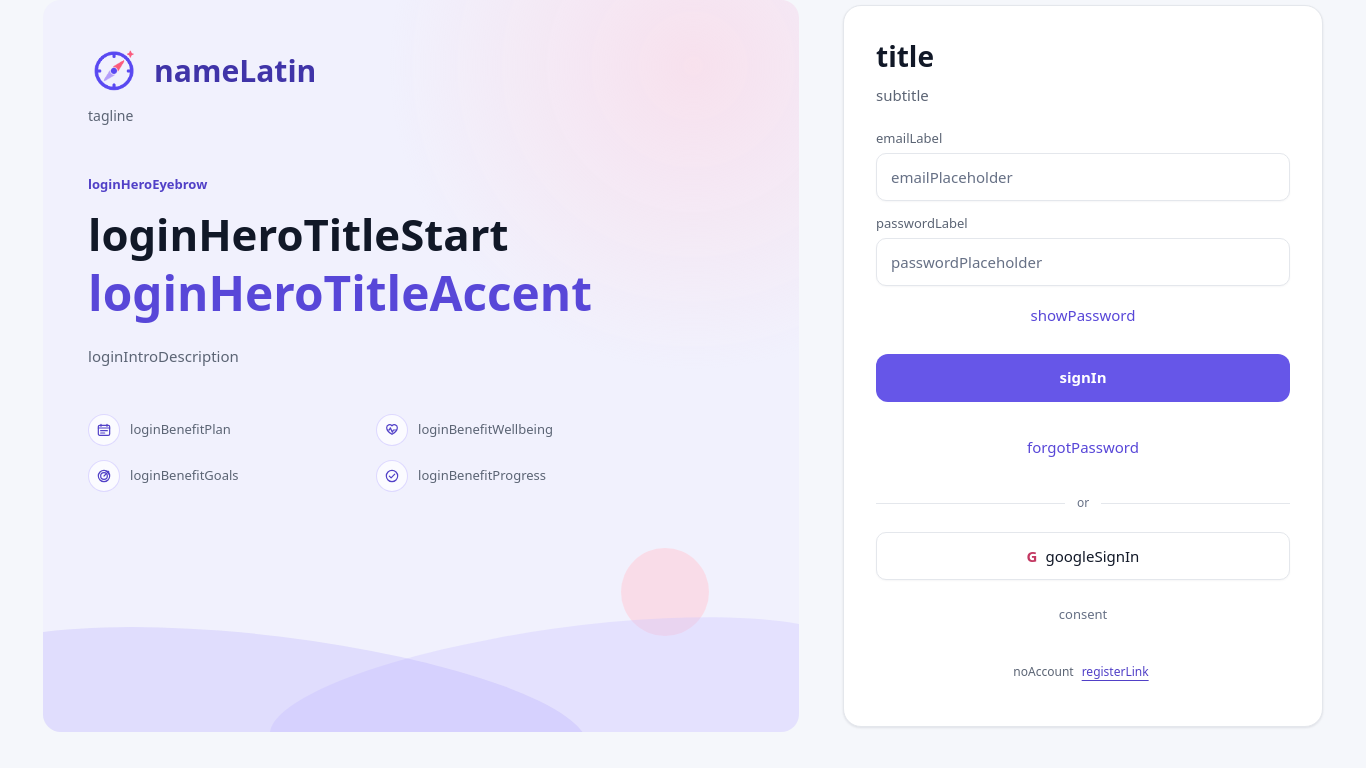
Test: LoginForm › normalizes email before validation and allows existing short passwords
In the field labelled "emailLabel": (1083, 177) [876,153,1290,201], type "  MAY@EXAMPLE.COM  "
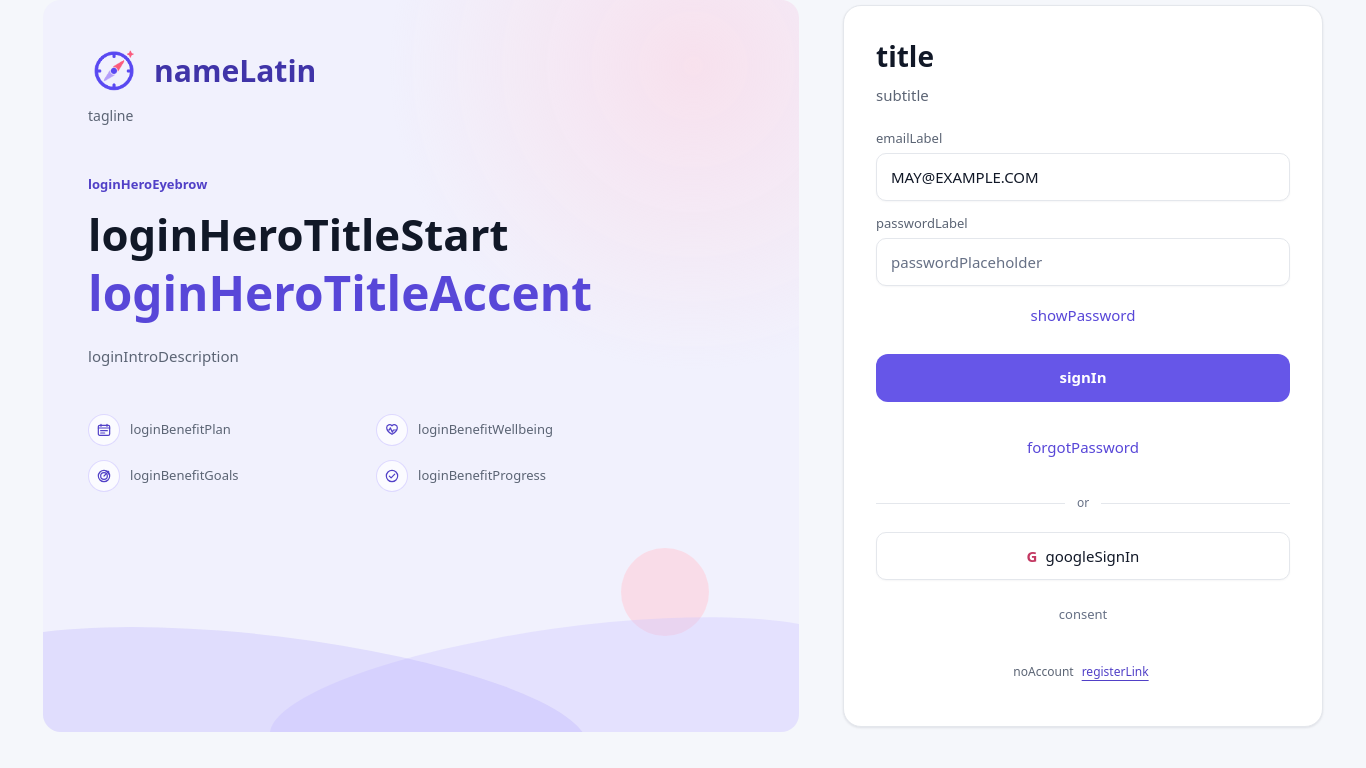
In the password field labelled "passwordLabel": (1083, 262) [876,238,1290,286], type "old"
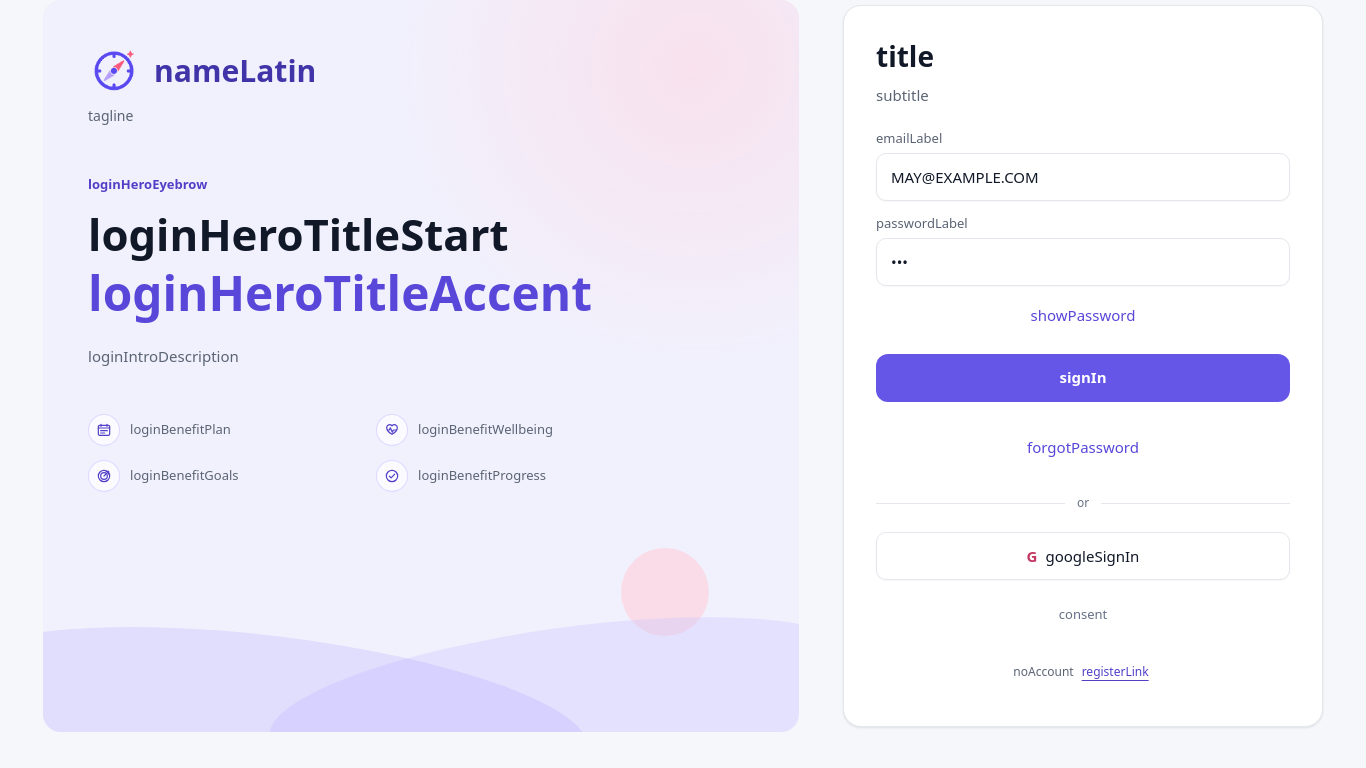
Click the button "signIn": (1083, 378) [876,354,1290,402]
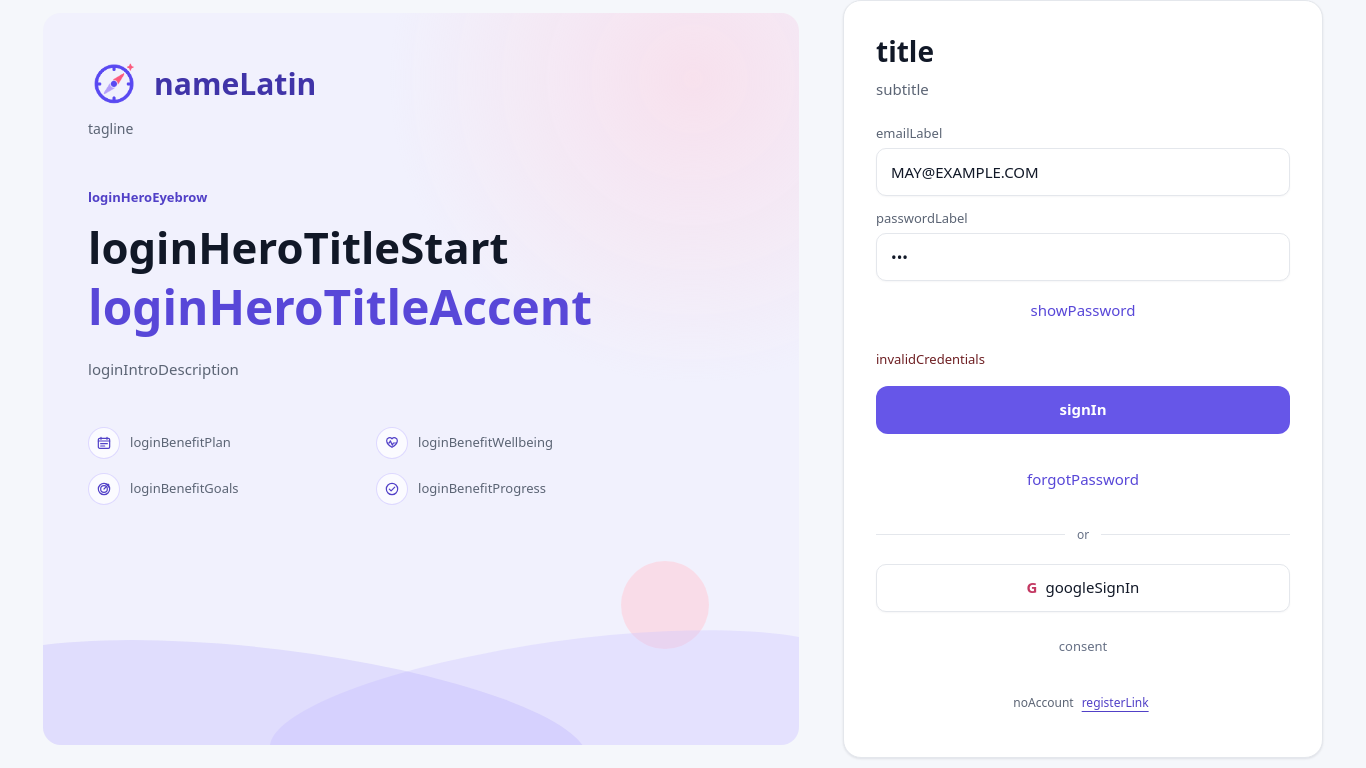
Now the message reads "invalidCredentials", box [876,350,985,368]
